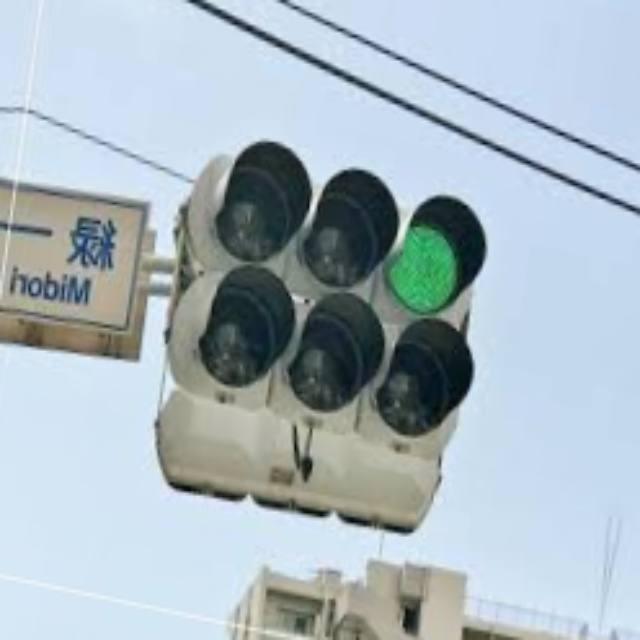green_light: (383, 218, 475, 321)
